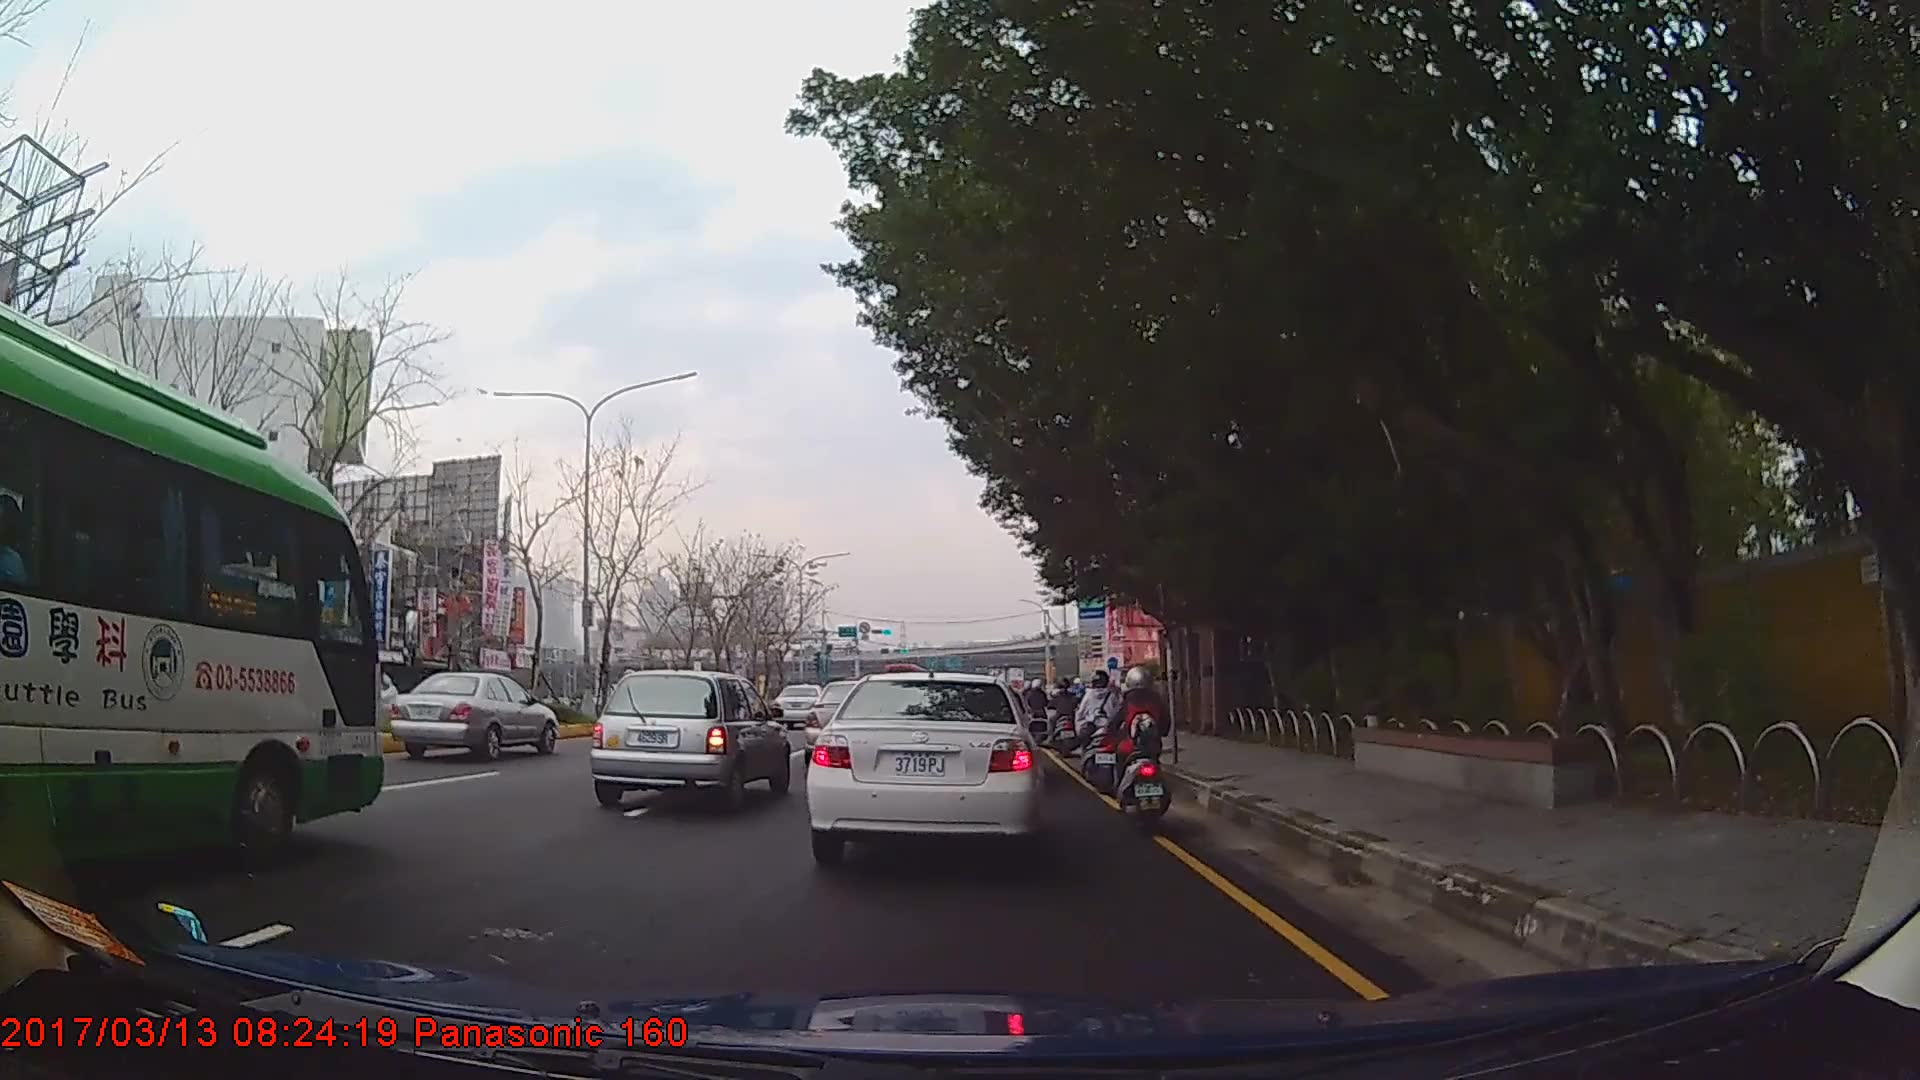rider: (1104, 661, 1164, 820), (1077, 669, 1120, 788), (1051, 681, 1078, 749)
vehicle: (0, 295, 385, 883), (803, 669, 1043, 857), (588, 669, 791, 811), (389, 670, 555, 764), (774, 683, 829, 727)
